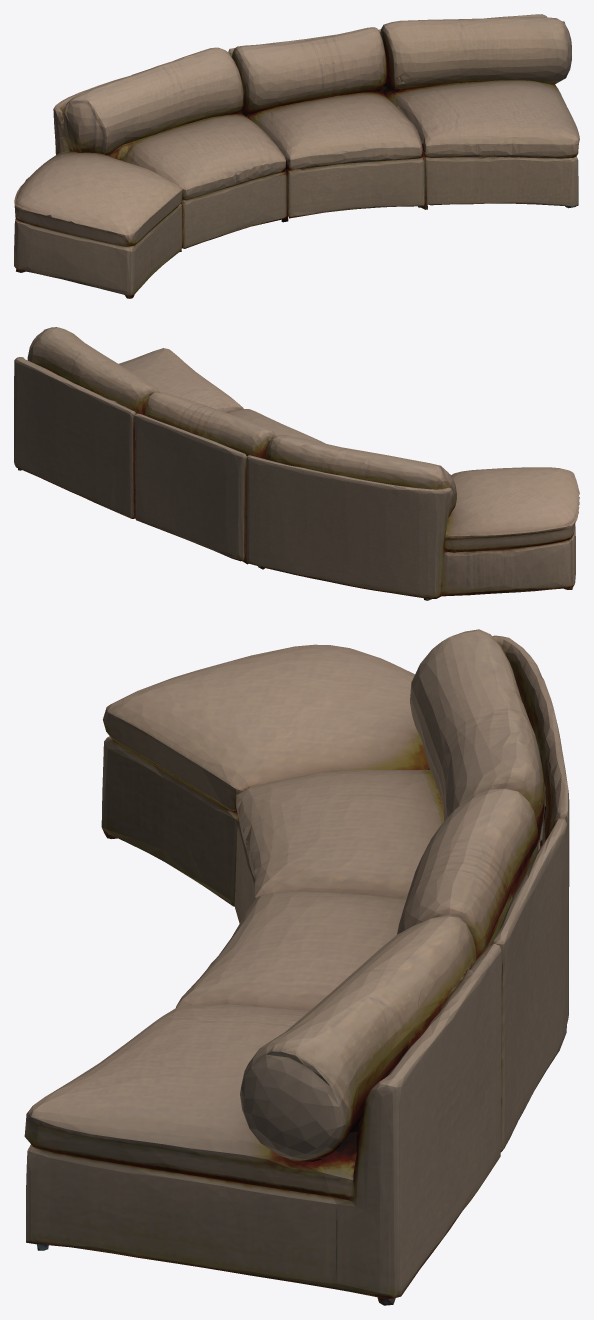
The model's file is SALA LUMNO MUSHROOM.glb.
3 views of the same model, one above another, from view 1: azimuth 30°, elevation 25°; view 2: azimuth 150°, elevation 25°; view 3: azimuth 270°, elevation 25° (orthographic). The views are drawn at different scales.
Visible parts, largest first — view 1: world; view 2: world; view 3: world.
Boxes of the visible parts, x1,y1,x2,y2 form: world: [14, 14, 579, 298]; world: [14, 327, 579, 600]; world: [24, 629, 569, 1305].
Bounding box in the file's own units: 1.01 × 0.2274 × 0.4366.
1 material, 1 textured.
